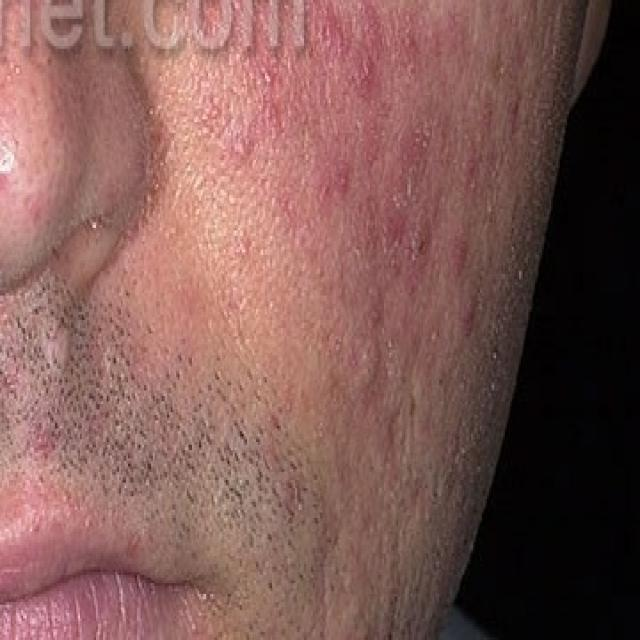Rosacea: (228, 11, 442, 327)
